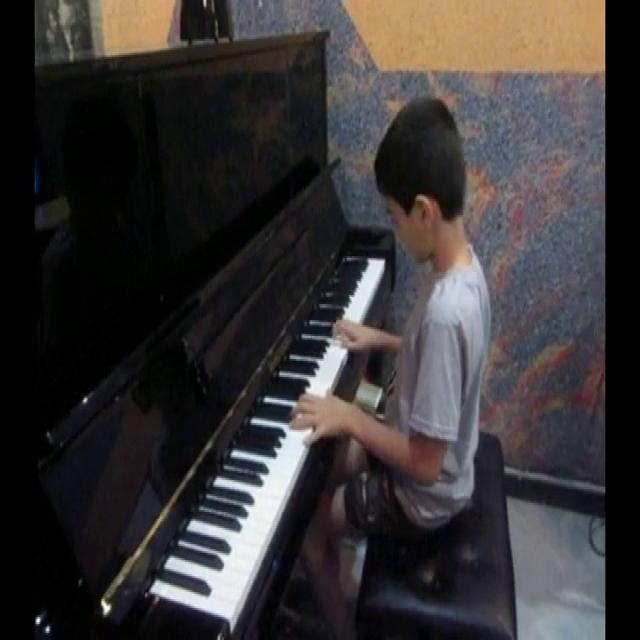Piano: (141, 243, 393, 638)
